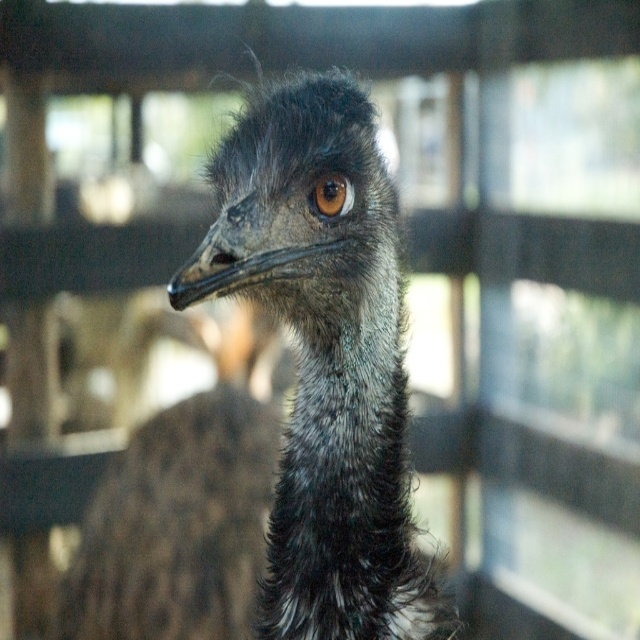Ostrich: (54, 37, 476, 640)
